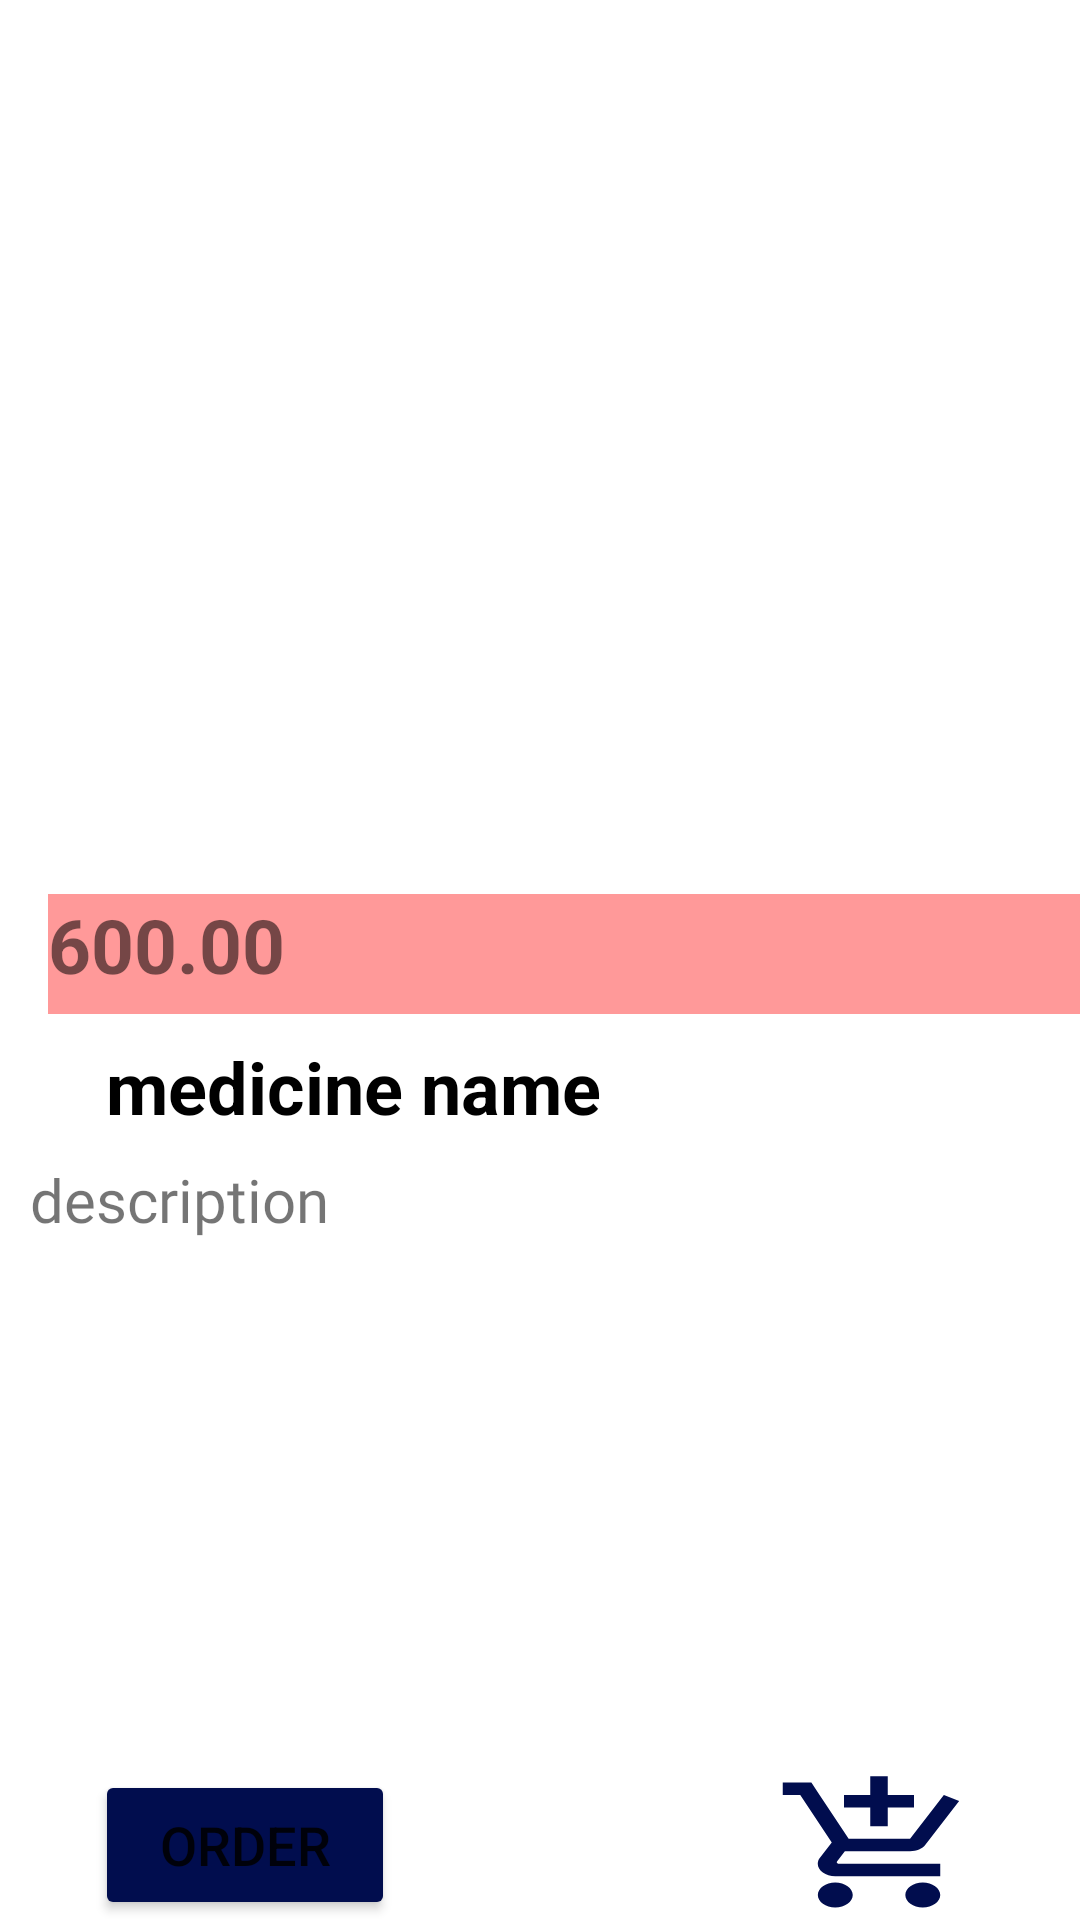

Locate icon controls on the screen. Image size 1080 × 1920, boxes as bbox=(x1, y1, x2, y2).
add shopping cart: bbox=(782, 1776, 959, 1908)
